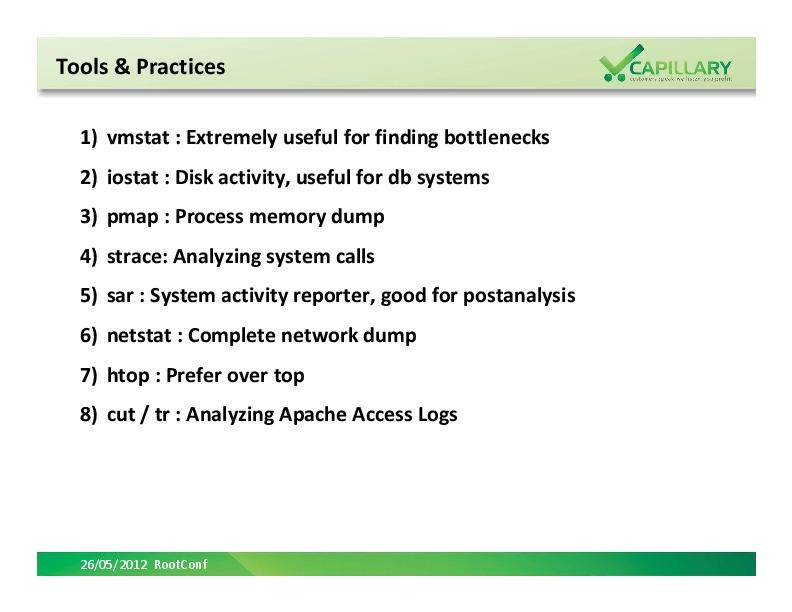paragraph: (59, 107, 624, 461)
subtitle: (75, 552, 216, 576)
title: (51, 45, 235, 86)
